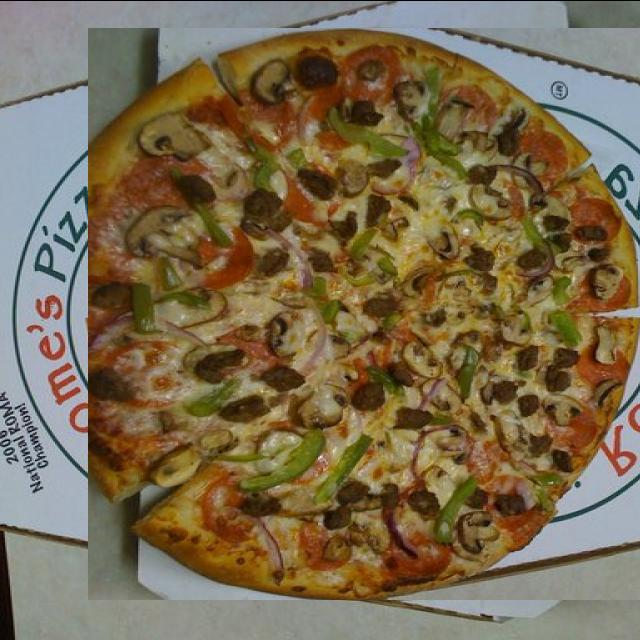pizza: (88, 27, 640, 599)
